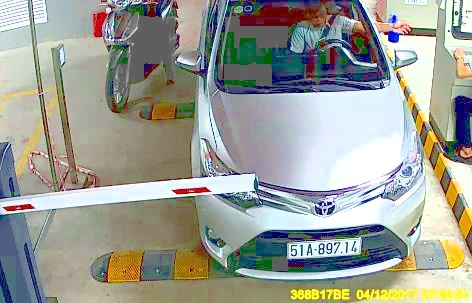plate: (285, 234, 363, 262)
